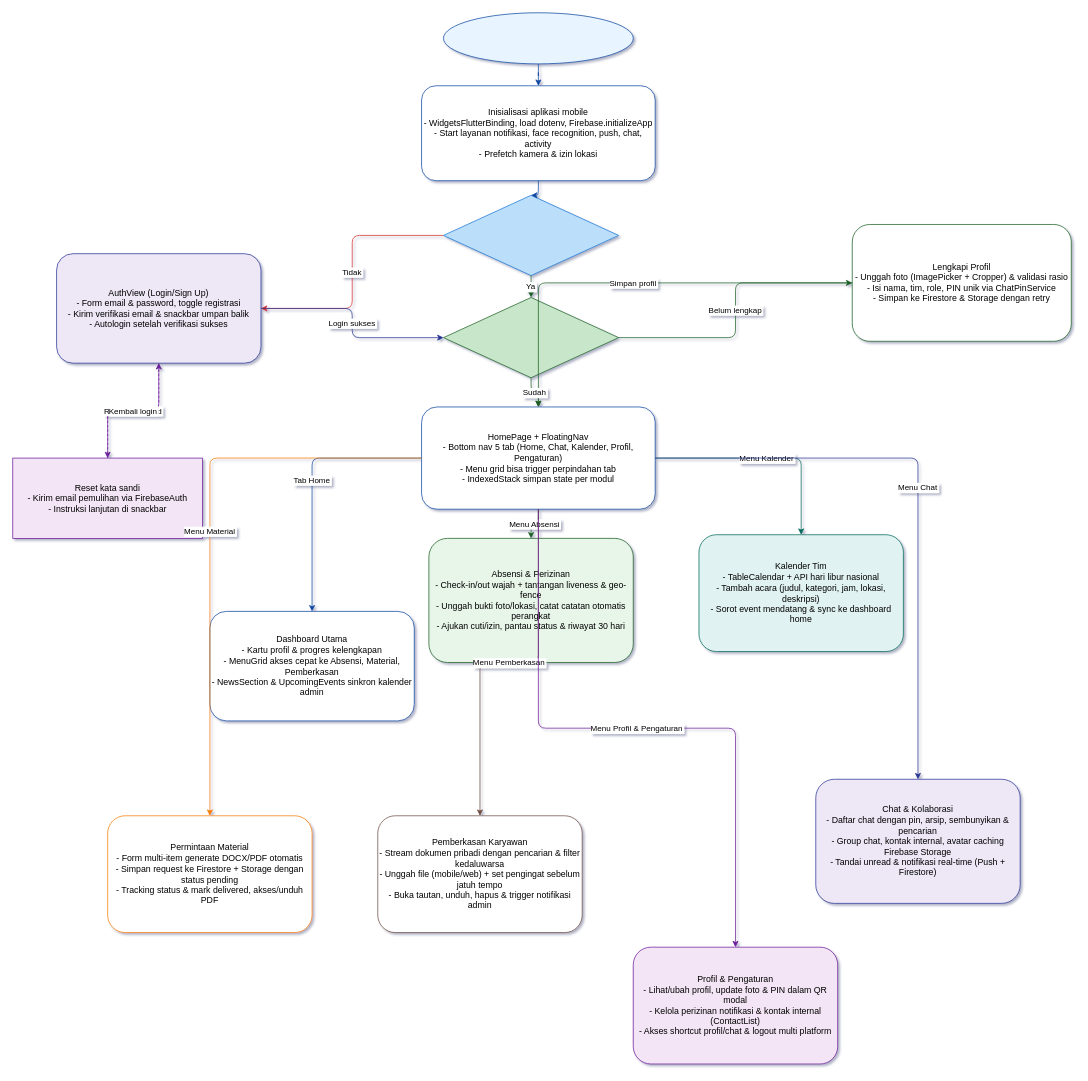
This 1088x1081 diagram has some shape labels left out. Here are the shapes that lost their labels. From the top down, the centre of each, then its label:
point (538, 38): Pengguna membuka aplikasi karyawan
point (531, 235): Sesi login & email terverifikasi?
point (531, 337): Profil karyawan lengkap?
